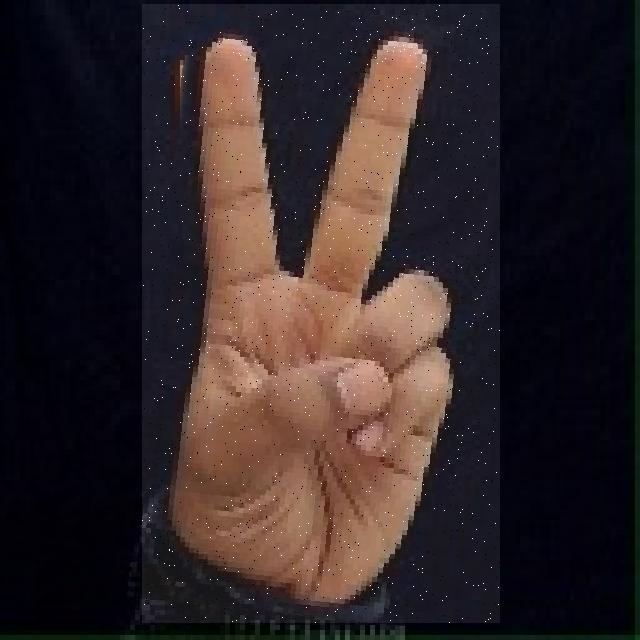No: (142, 4, 500, 623)
